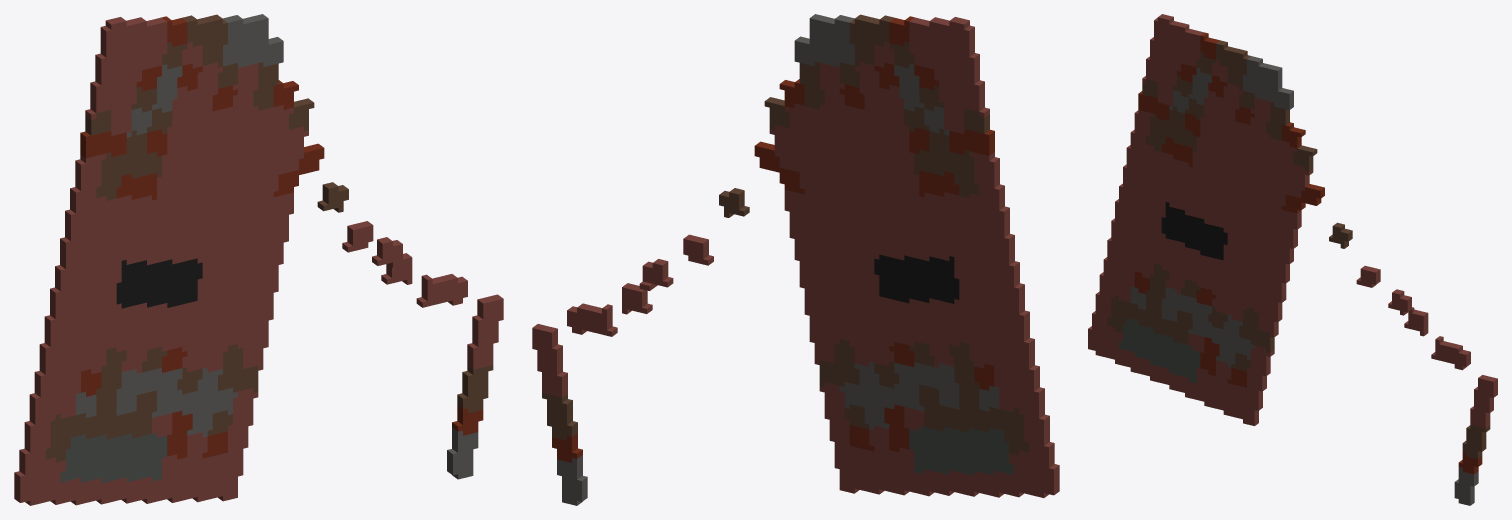
File: jackknifed_lorry_cab_near_side.glb
The picture shows the model from 3 angles, left to right: view 1: azimuth 30°, elevation 25°; view 2: azimuth 150°, elevation 25°; view 3: azimuth 330°, elevation 25°; orthographic projection. The views are drawn at different scales.
Visible parts, largest first — view 1: body:compound; view 2: body:compound; view 3: body:compound.
Part boxes in pixels (x1,y1,x2,y2): body:compound: [14, 14, 503, 505]; body:compound: [532, 14, 1059, 505]; body:compound: [1088, 14, 1497, 505].
Bounding box in the file's own units: 3.12 × 3.31 × 0.3125.
